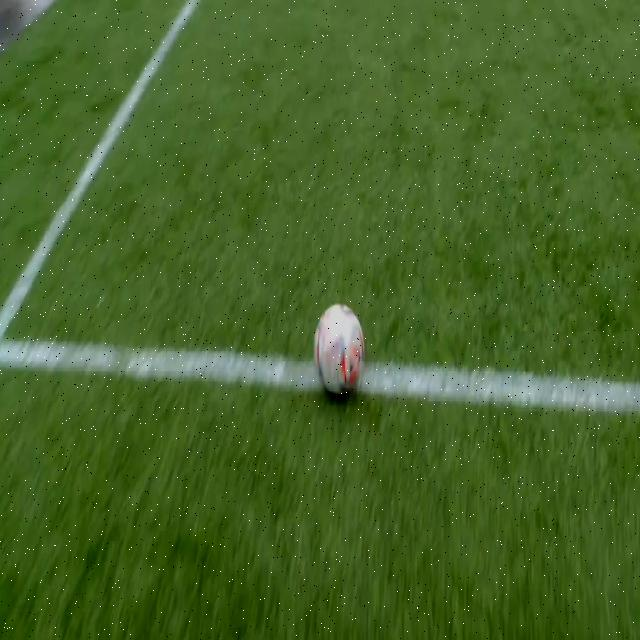ball: (314, 304, 364, 400)
